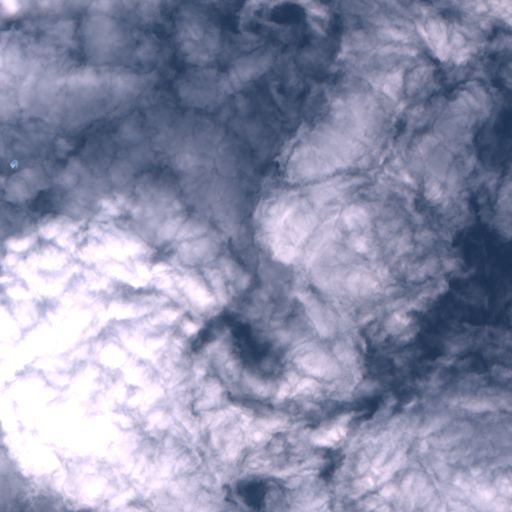Iceberg: (10, 159, 17, 168)
